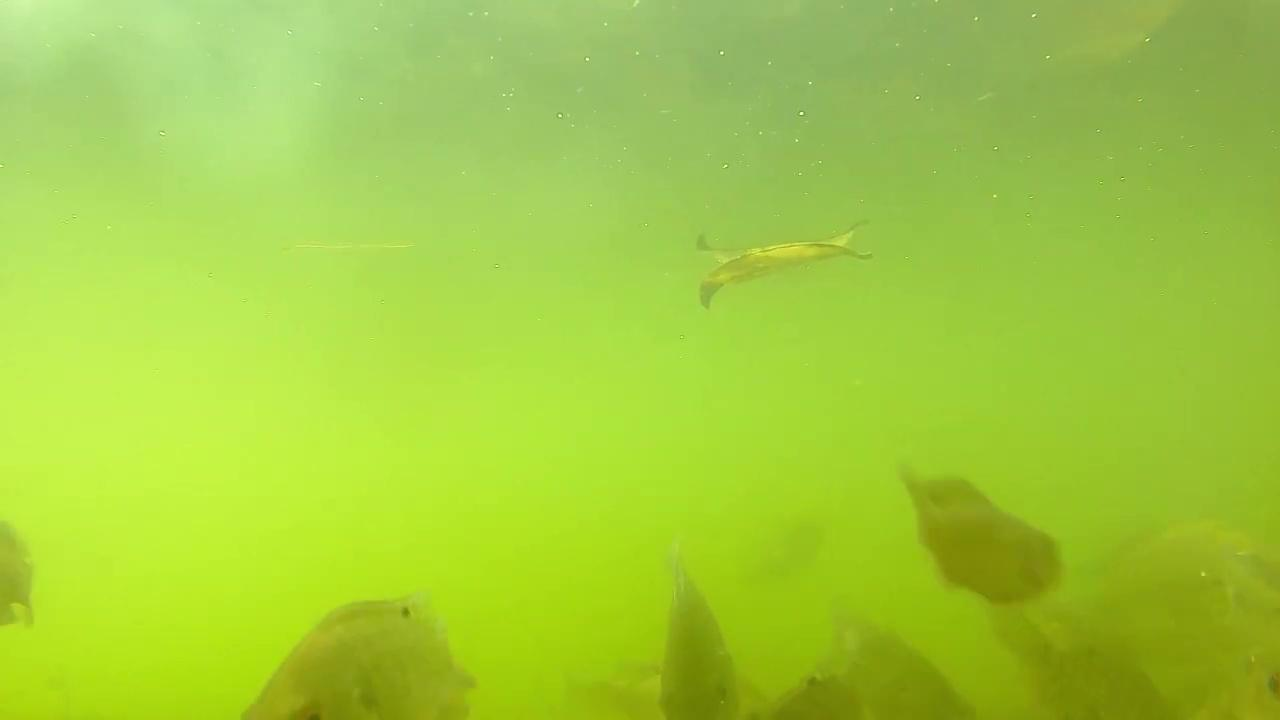Tilapia: (195, 598, 513, 718), (645, 564, 740, 720)
